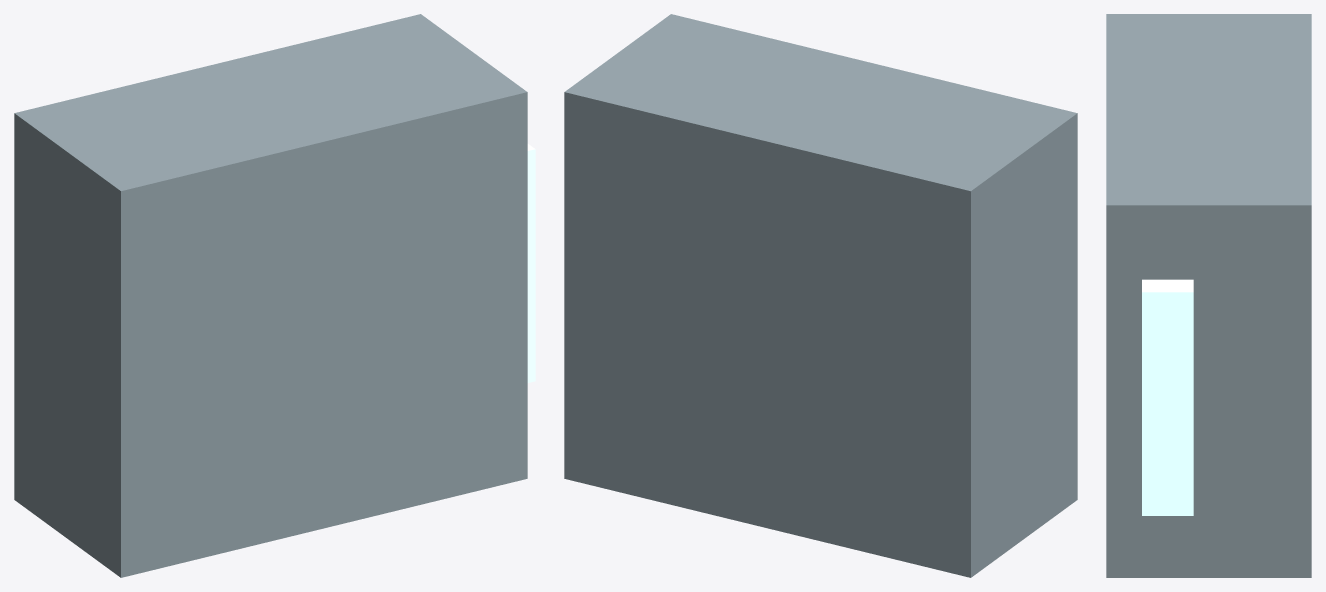
Rendered from compute_light.glb.
3 renders of one model, left to right at view 1: azimuth 30°, elevation 25°; view 2: azimuth 150°, elevation 25°; view 3: azimuth 270°, elevation 25°, orthographic. The views are drawn at different scales.
Parts seen in each view (by area): view 1: case, indicator; view 2: case; view 3: case, indicator.
Boxes of the visible parts, x1,y1,x2,y2 form: case: (14,14,527,577); indicator: (527,144,535,382); case: (564,14,1077,577); case: (1106,14,1311,577); indicator: (1142,279,1193,515).
Size of the model in its own units: 0.2345 by 0.2 by 0.1.
